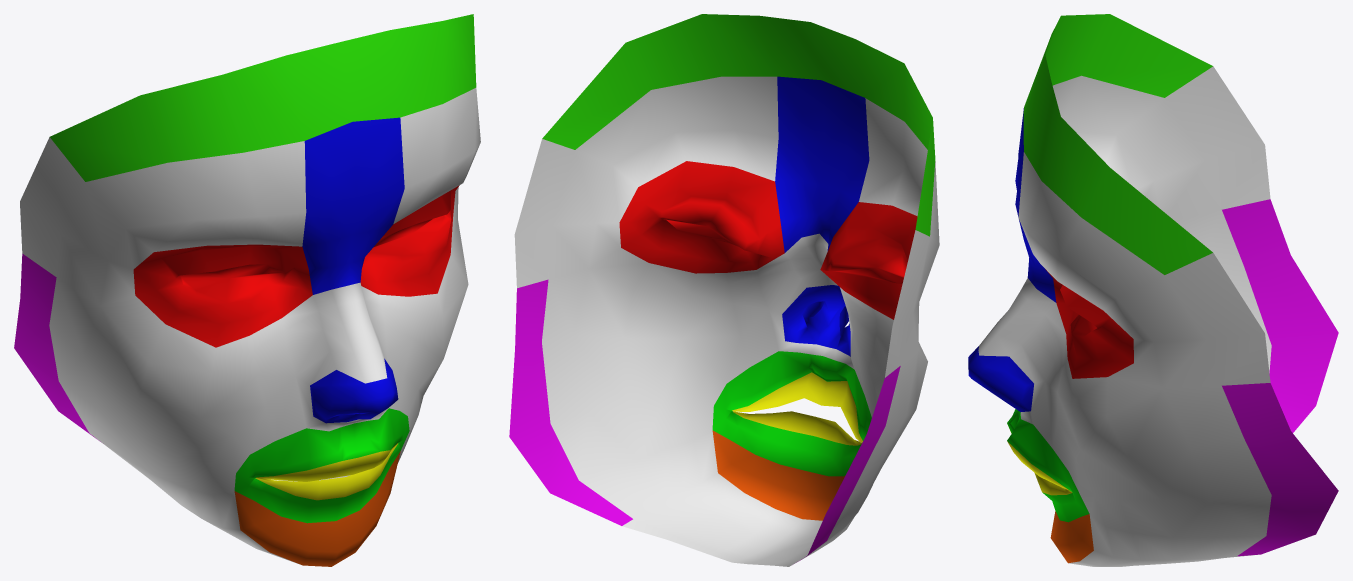
Rendered from VG_Template.fbx.
3 views of the same model, side by side, from view 1: azimuth 30°, elevation 25°; view 2: azimuth 150°, elevation 25°; view 3: azimuth 270°, elevation 25° (orthographic). The views are drawn at different scales.
Parts seen in each view (by area): view 1: Template_Mesh; view 2: Template_Mesh; view 3: Template_Mesh.
Part boxes in pixels (x1=…): Template_Mesh: x1=14, y1=14, x2=480, y2=566; Template_Mesh: x1=509, y1=14, x2=939, y2=566; Template_Mesh: x1=968, y1=14, x2=1338, y2=566.
Size of the model in its own units: 419 by 525 by 348.
